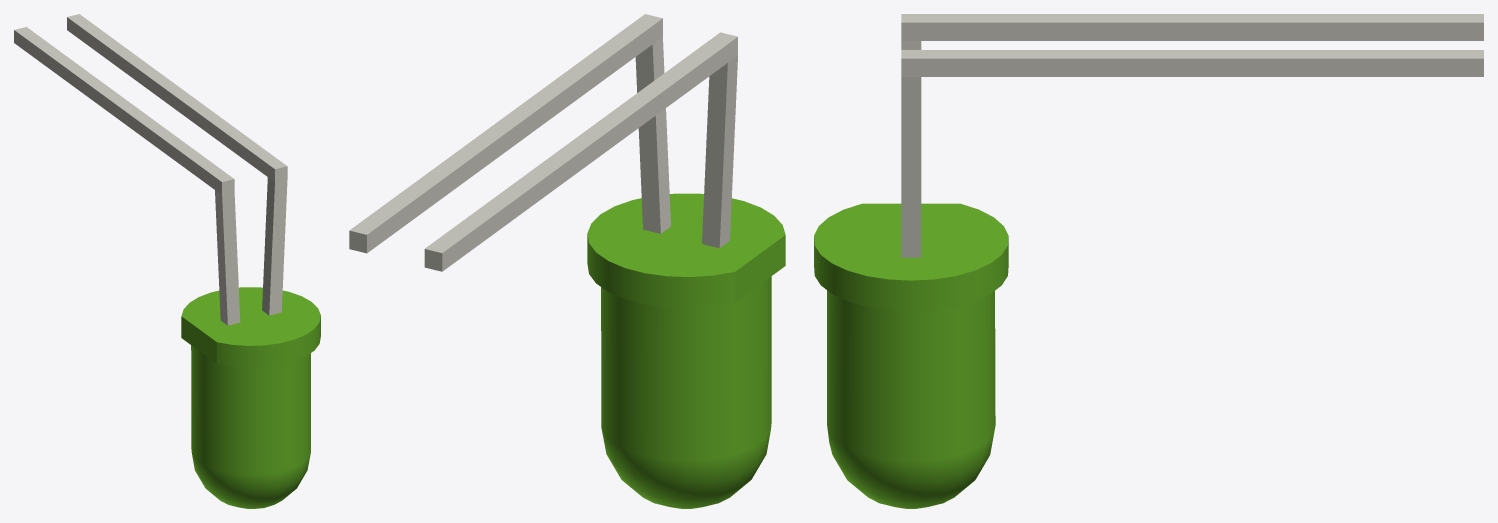
The model's file is LED_5mm_clear_tall.glb.
3 renders of one model, left to right at view 1: azimuth 30°, elevation 25°; view 2: azimuth 150°, elevation 25°; view 3: azimuth 270°, elevation 25°, orthographic. The views are drawn at different scales.
Visible parts, largest first — view 1: LED_D5.0mm_Horizontal_O6.35mm_Z15.0mm; view 2: LED_D5.0mm_Horizontal_O6.35mm_Z15.0mm; view 3: LED_D5.0mm_Horizontal_O6.35mm_Z15.0mm.
Boxes of the visible parts, x1,y1,x2,y2 form: LED_D5.0mm_Horizontal_O6.35mm_Z15.0mm: (14,14,320,508); LED_D5.0mm_Horizontal_O6.35mm_Z15.0mm: (349,14,785,508); LED_D5.0mm_Horizontal_O6.35mm_Z15.0mm: (814,14,1483,508).
Bounding box in the file's own units: 0.0054 × 0.0152 × 0.0199.
